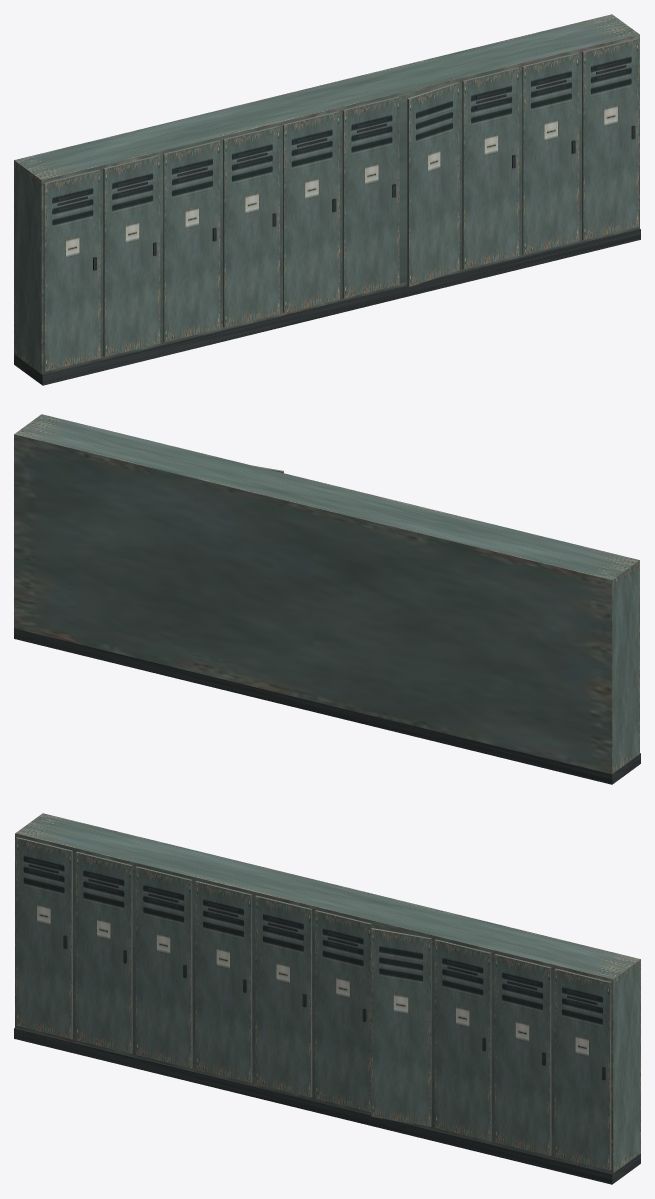
File: locker_row.glb
The picture shows the model from 3 angles, top to bottom: view 1: azimuth 30°, elevation 25°; view 2: azimuth 150°, elevation 25°; view 3: azimuth 330°, elevation 25°; orthographic projection.
Parts seen in each view (by area): view 1: LockerRow; view 2: LockerRow; view 3: LockerRow.
Part boxes in pixels (x1,y1,x2,y2): LockerRow: (14,14,640,385); LockerRow: (14,414,640,784); LockerRow: (14,813,640,1184).
Bounding box in the file's own units: 6 × 1.96 × 0.5778.
1 material, 1 textured.
